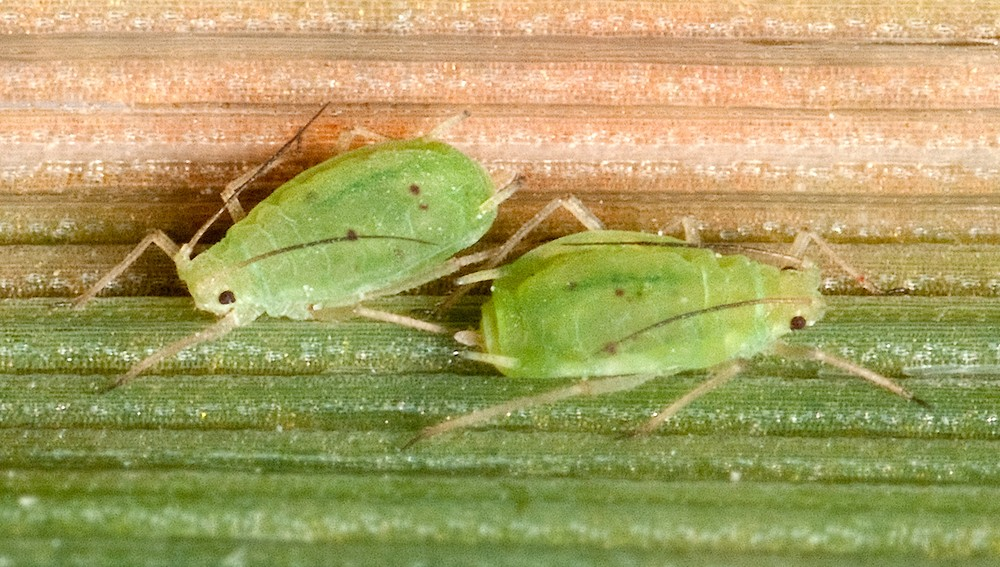Pulgon: (460, 192, 942, 482), (83, 95, 521, 410)
